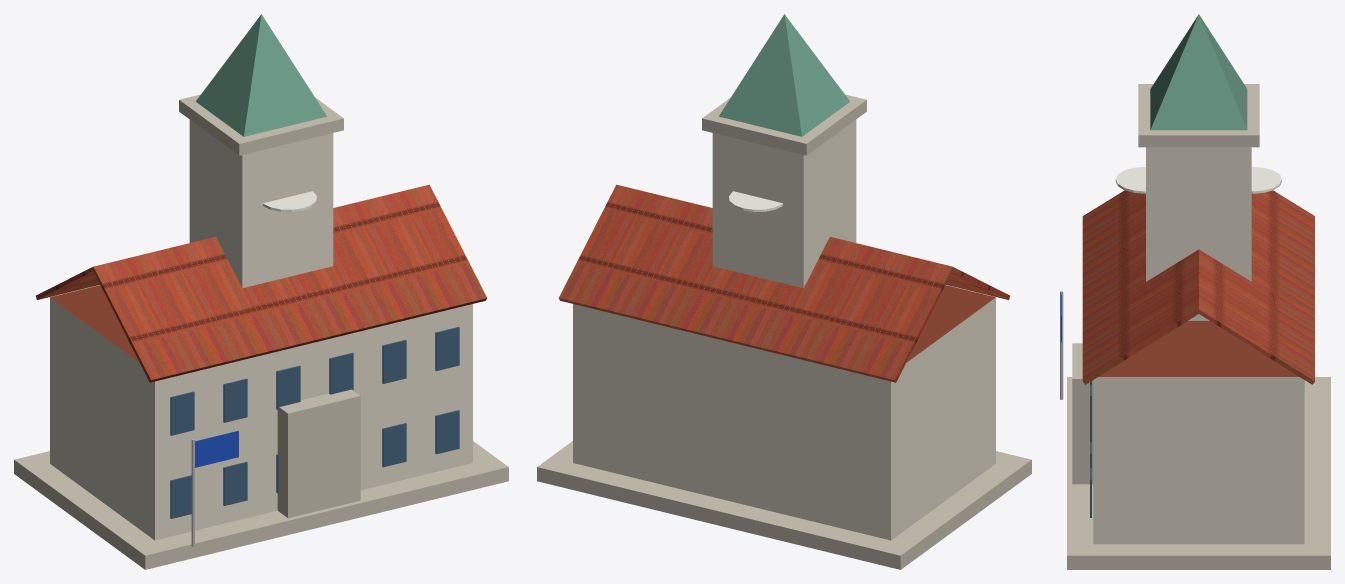
Rendered from gov_hall1.glb.
The picture shows the model from 3 angles, left to right: view 1: azimuth 30°, elevation 25°; view 2: azimuth 150°, elevation 25°; view 3: azimuth 270°, elevation 25°; orthographic projection.
Visible parts, largest first — view 1: roof; view 2: roof; view 3: roof.
Boxes of the visible parts, x1,y1,x2,y2 form: roof: (14, 14, 508, 569); roof: (537, 14, 1031, 569); roof: (1060, 14, 1330, 569).
Bounding box in the file's own units: 16 × 19.5 × 10.26.
9 materials, 1 textured.
